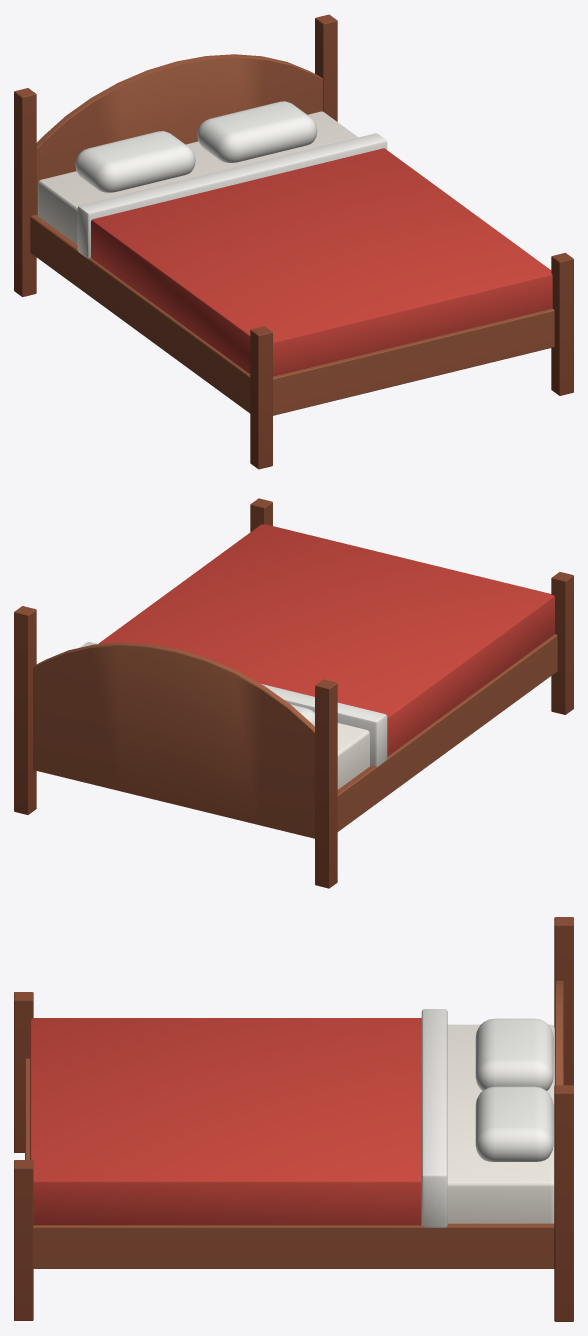
The model's file is DoubleBedRed.glb.
The picture shows the model from 3 angles, top to bottom: view 1: azimuth 30°, elevation 25°; view 2: azimuth 150°, elevation 25°; view 3: azimuth 270°, elevation 25°; orthographic projection. The views are drawn at different scales.
Parts seen in each view (by area): view 1: DoubleBedRed; view 2: DoubleBedRed; view 3: DoubleBedRed.
Part boxes in pixels (box(x1,y1,x2,y2)): DoubleBedRed: box(14, 14, 573, 469); DoubleBedRed: box(14, 498, 573, 888); DoubleBedRed: box(14, 917, 573, 1321).
Bounding box in the file's own units: 1.6 × 0.9694 × 2.15.
1 material, 1 textured.
